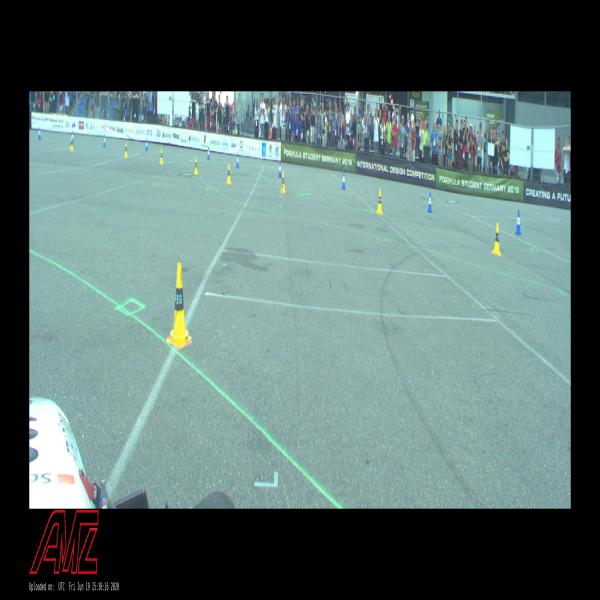blue_cone: (515, 210, 522, 234), (427, 192, 432, 212), (278, 161, 282, 177), (342, 172, 345, 188), (236, 154, 239, 168), (103, 134, 106, 147), (207, 147, 210, 159), (38, 128, 41, 139), (72, 131, 74, 143), (146, 140, 148, 150)
yellow_cone: (167, 263, 192, 347), (493, 223, 501, 256), (376, 189, 382, 214), (280, 171, 286, 192), (226, 164, 231, 183), (194, 157, 198, 174), (160, 148, 164, 164), (70, 138, 74, 150), (125, 143, 128, 157)
